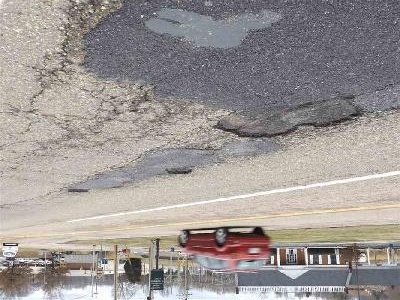pothole: (211, 93, 366, 139), (163, 164, 192, 176), (64, 186, 89, 195)
